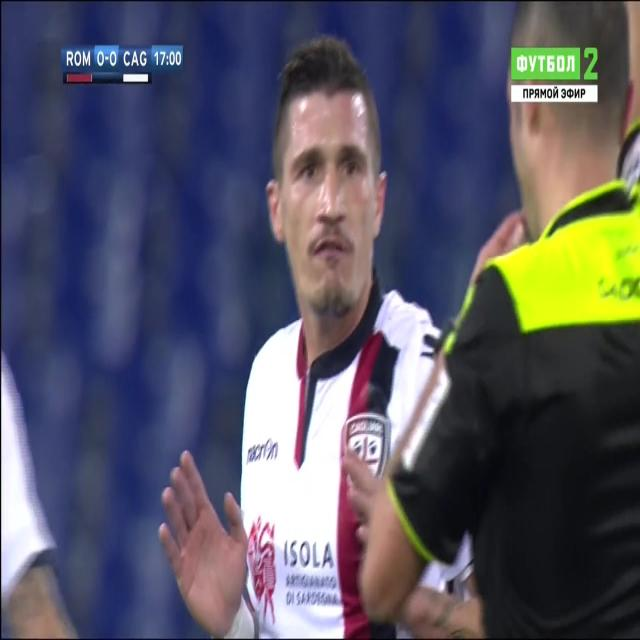Player: (157, 33, 482, 639)
Referee: (359, 0, 640, 637)
